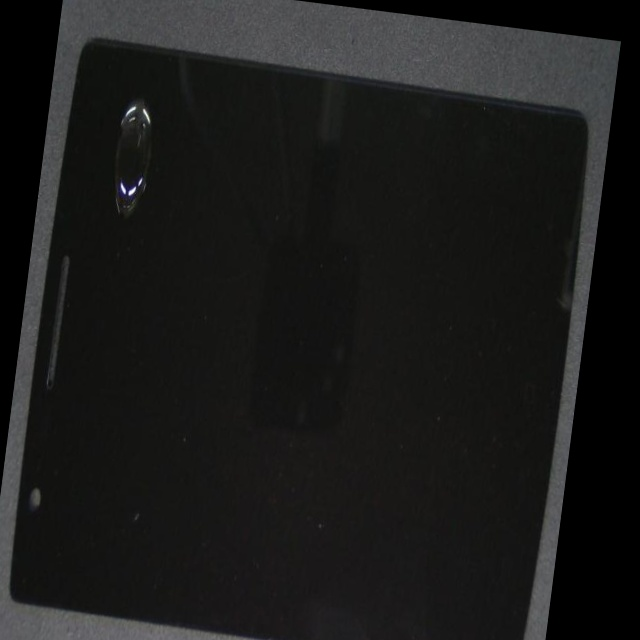oil: (104, 42, 197, 181)
